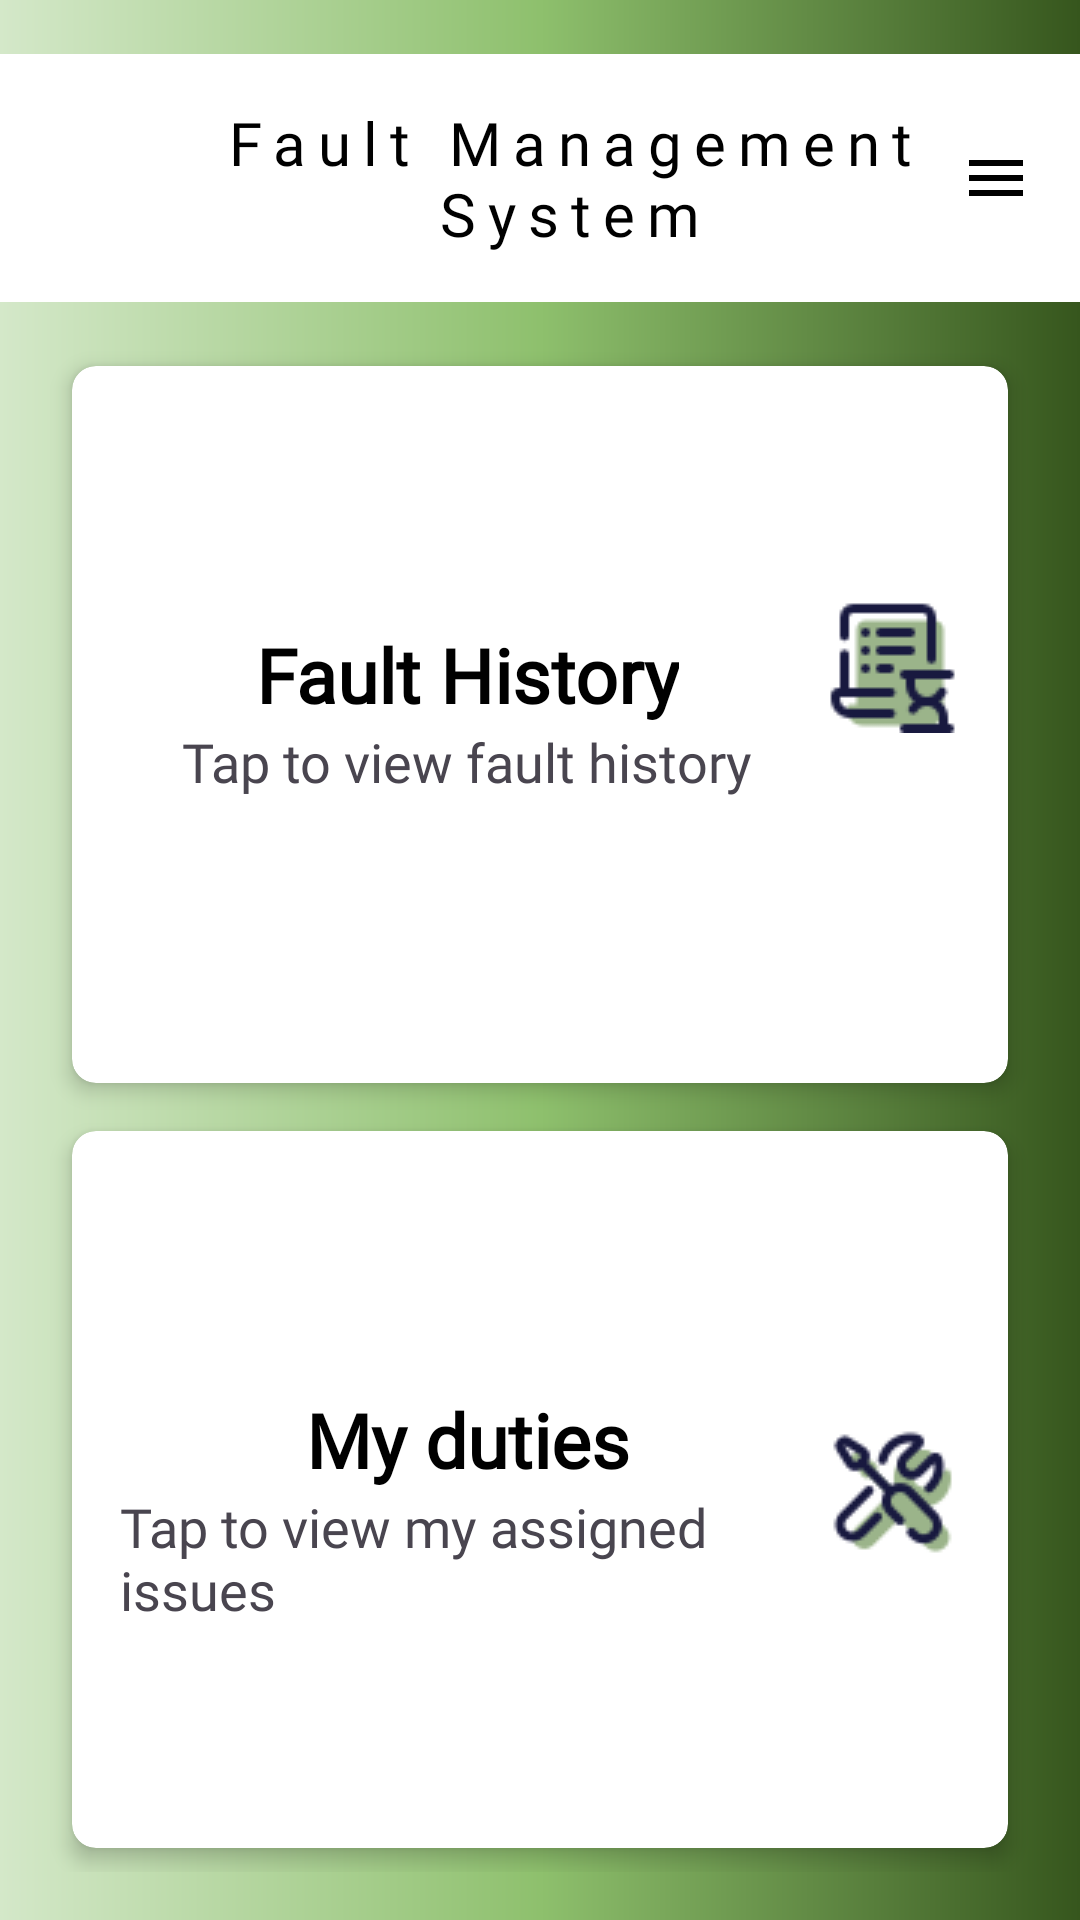

Where icons sit on this 1080w x 1920h app screen, as (x1=x1, y1=y1, x2=x2, y2=y2):
historytechicon: (x1=830, y1=603, x2=955, y2=733)
menu: (x1=969, y1=160, x2=1023, y2=196)
